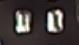MISSING: (8, 4, 37, 39), (41, 4, 70, 39)
